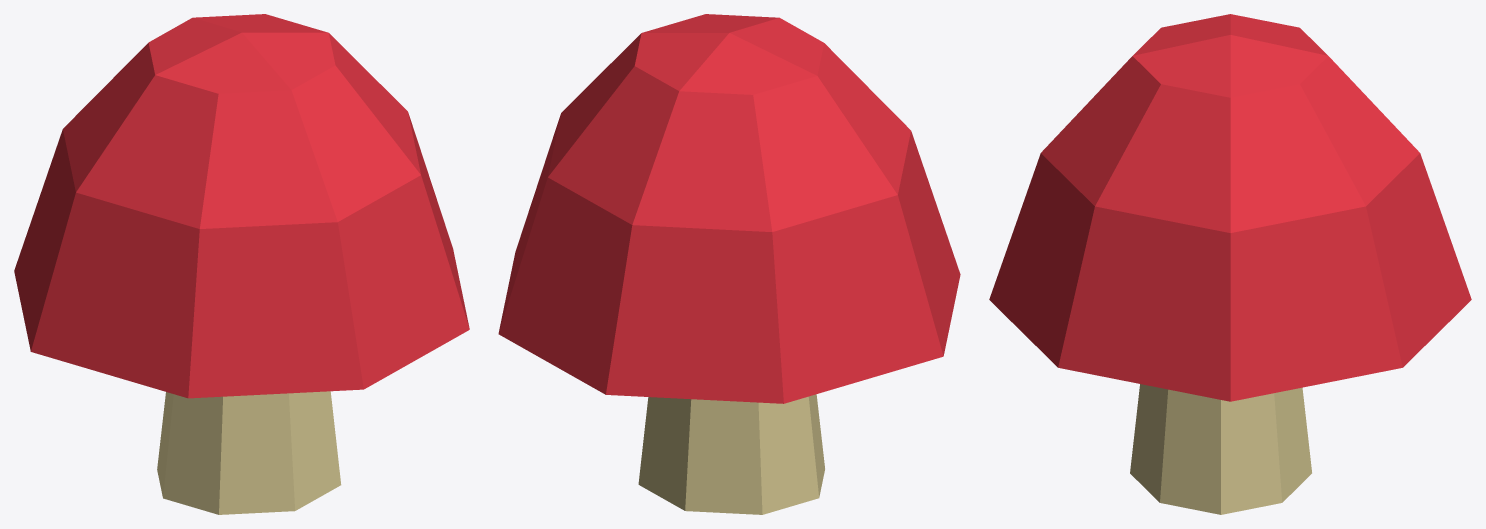
The model's file is 004_Mushroom_001.fbx.
3 renders of one model, left to right at view 1: azimuth 30°, elevation 25°; view 2: azimuth 150°, elevation 25°; view 3: azimuth 270°, elevation 25°, orthographic. The views are drawn at different scales.
Parts seen in each view (by area): view 1: Mushroom 001; view 2: Mushroom 001; view 3: Mushroom 001.
Part boxes in pixels (box(x1,y1,x2,y2)): Mushroom 001: box(14, 14, 469, 514); Mushroom 001: box(498, 14, 960, 514); Mushroom 001: box(989, 14, 1471, 514).
Size of the model in its own units: 31.63 by 31.63 by 31.63.
